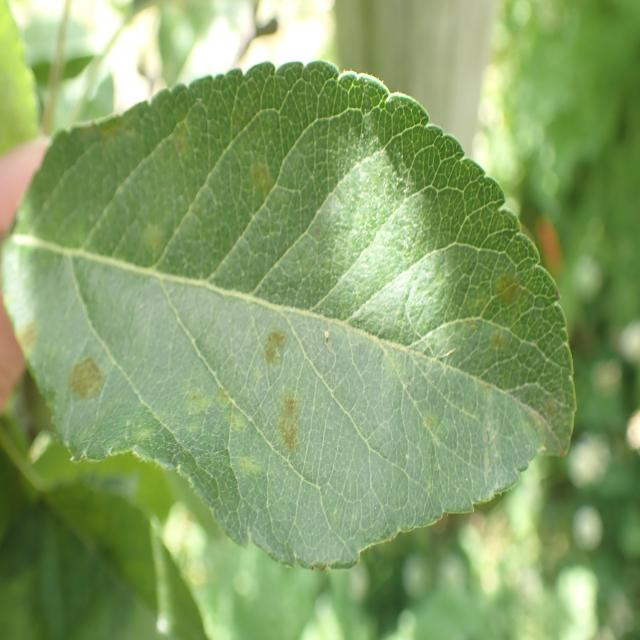scab: (34, 113, 579, 549)
